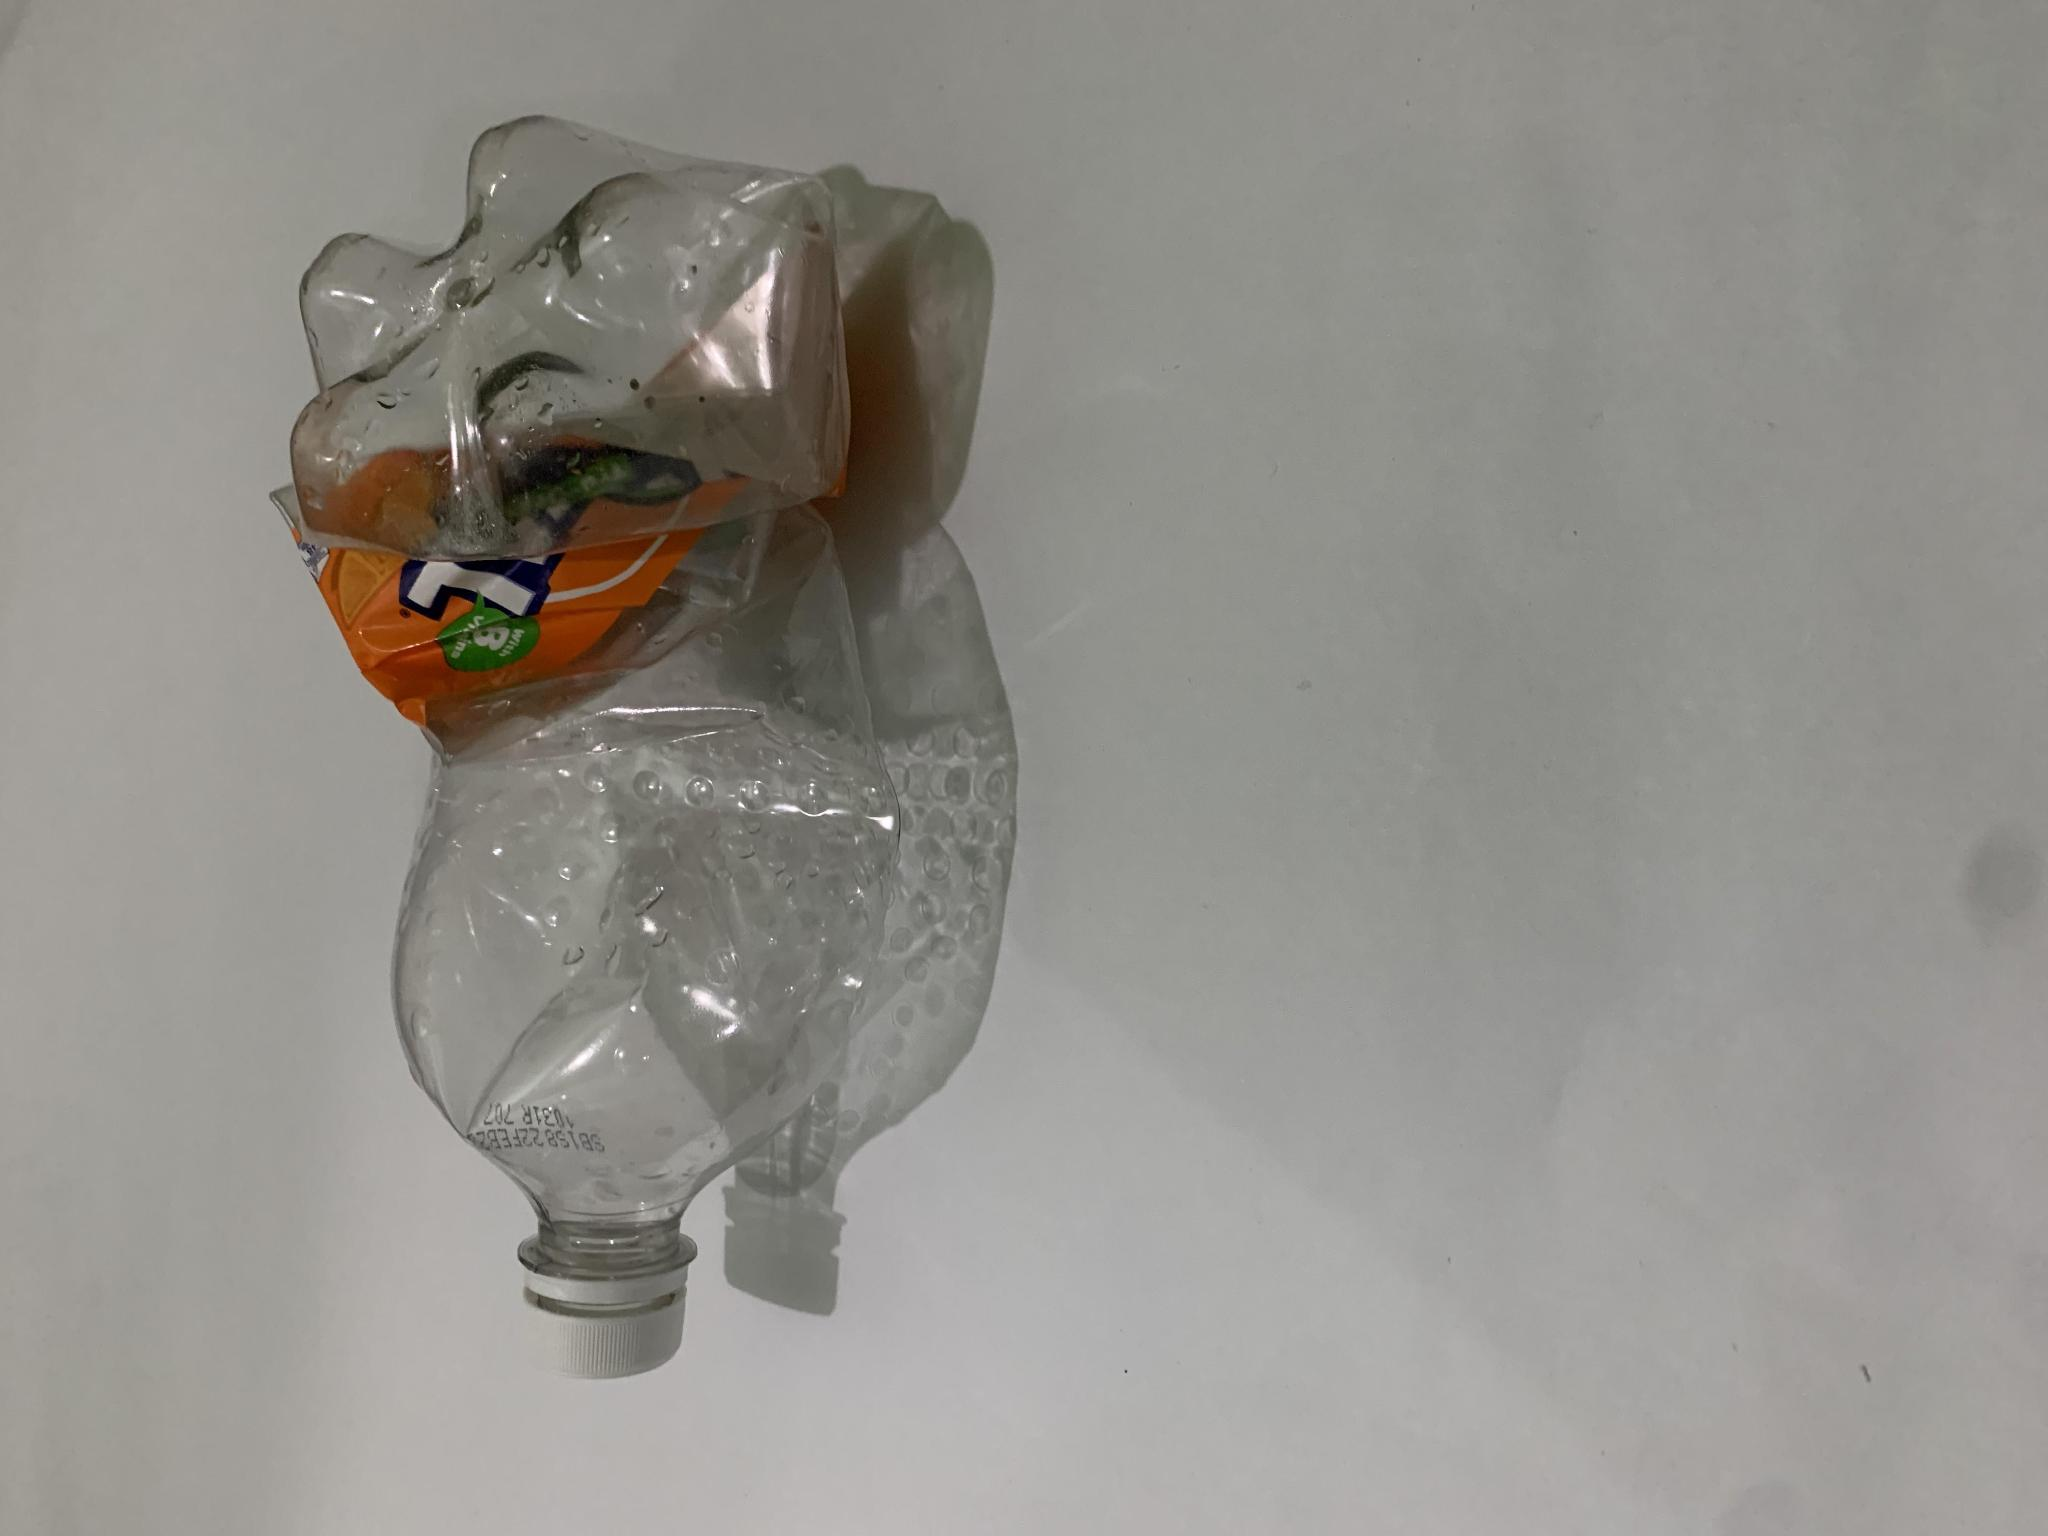bottle: (269, 77, 1008, 1404)
